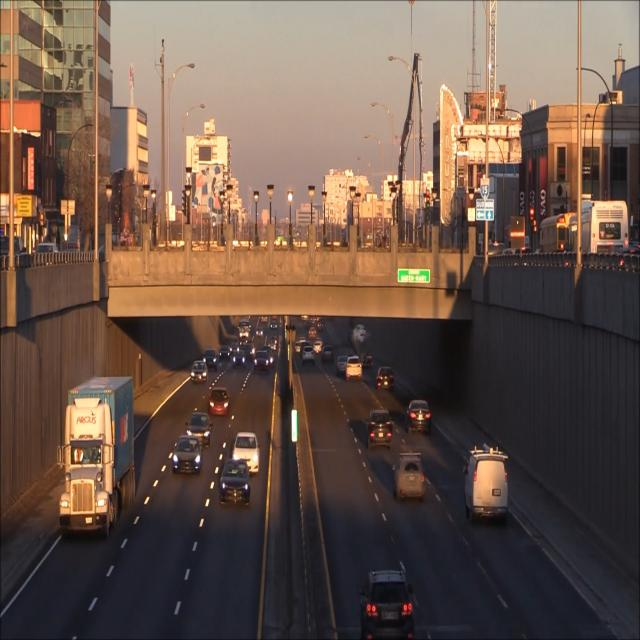Car: (58, 377, 134, 540), (362, 569, 414, 640), (463, 447, 510, 523), (392, 450, 428, 504), (172, 435, 204, 478), (220, 461, 250, 506), (366, 407, 395, 452), (232, 431, 259, 474), (187, 408, 213, 444), (406, 399, 431, 436), (208, 388, 232, 417), (346, 354, 364, 382), (253, 348, 270, 374), (190, 361, 208, 384), (376, 368, 394, 390), (203, 349, 218, 372), (302, 346, 316, 366), (233, 350, 245, 370)
